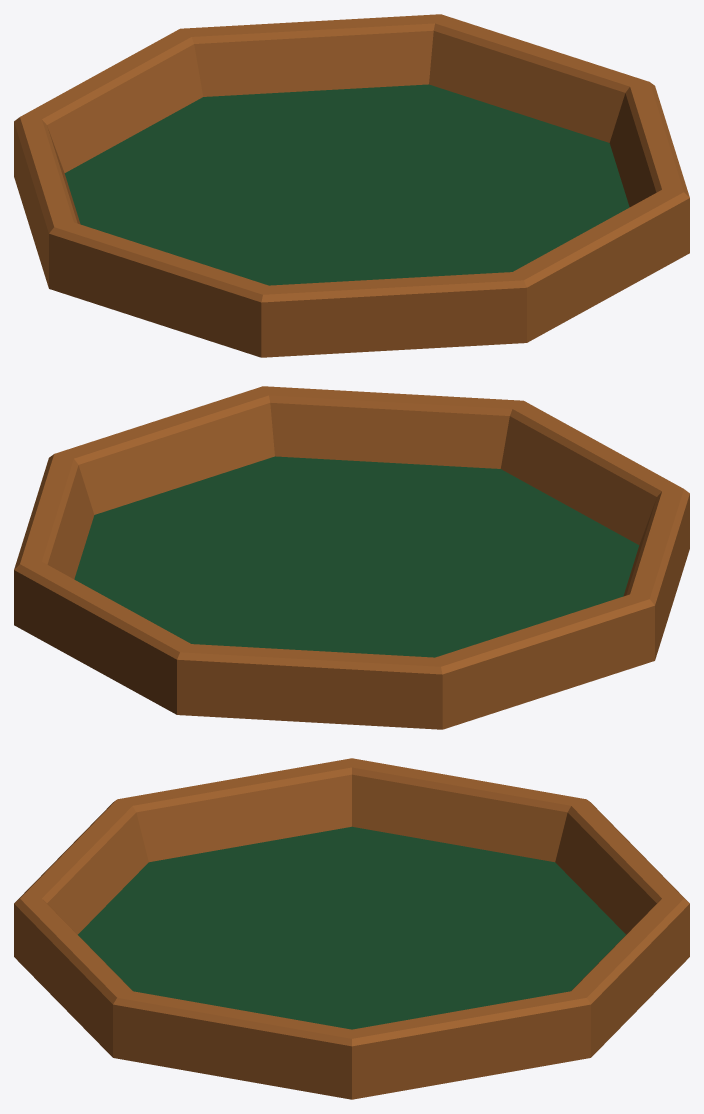
The model's file is Dice_Tray.fbx.
3 views of the same model, one above another, from view 1: azimuth 30°, elevation 25°; view 2: azimuth 150°, elevation 25°; view 3: azimuth 270°, elevation 25° (orthographic). The views are drawn at different scales.
Parts seen in each view (by area): view 1: Cylinder; view 2: Cylinder; view 3: Cylinder.
Part boxes in pixels (x1=…): Cylinder: x1=14, y1=14, x2=689, y2=357; Cylinder: x1=14, y1=386, x2=689, y2=729; Cylinder: x1=14, y1=758, x2=689, y2=1099.
Size of the model in its own units: 384 by 36.62 by 384.
